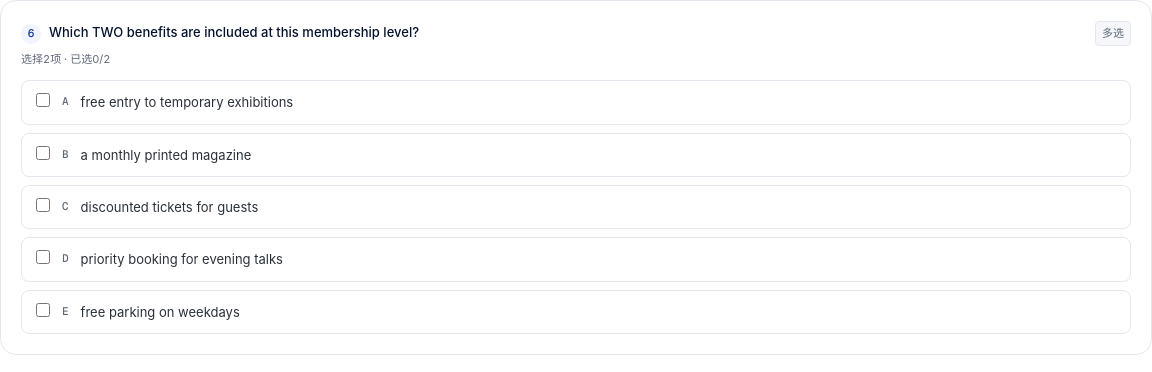
McqMultiGroup › deselecting at the limit re-enables the rest
Click the checkbox labelled "free entry to temporary exhibitions" at (43, 100), box left=36, top=93, right=50, bottom=107
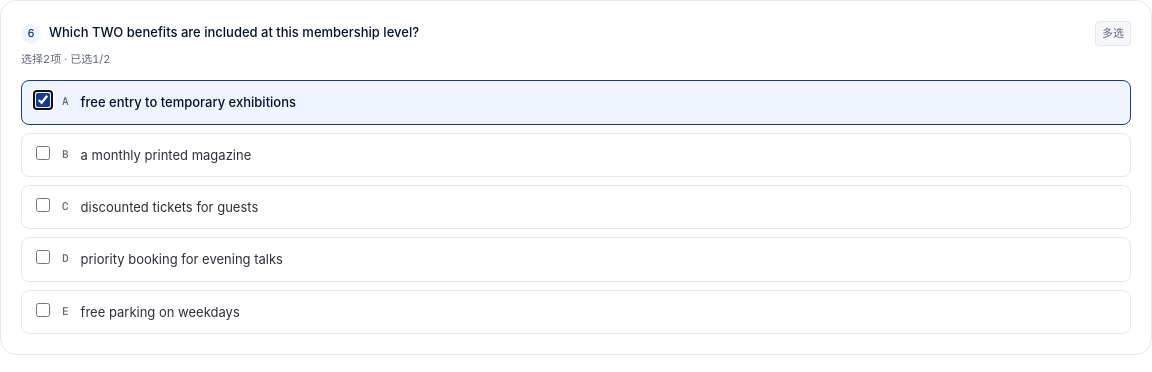
Click the checkbox labelled "discounted tickets for guests" at (43, 205), box left=36, top=198, right=50, bottom=212
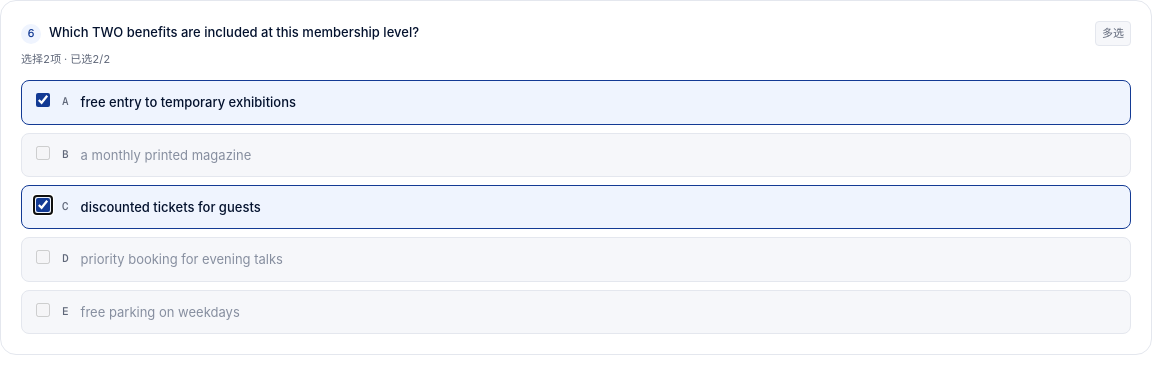
Now the checkbox labelled "a monthly printed magazine" is disabled, box left=36, top=146, right=50, bottom=160
Click the checkbox labelled "free entry to temporary exhibitions" at (43, 100), box left=36, top=93, right=50, bottom=107
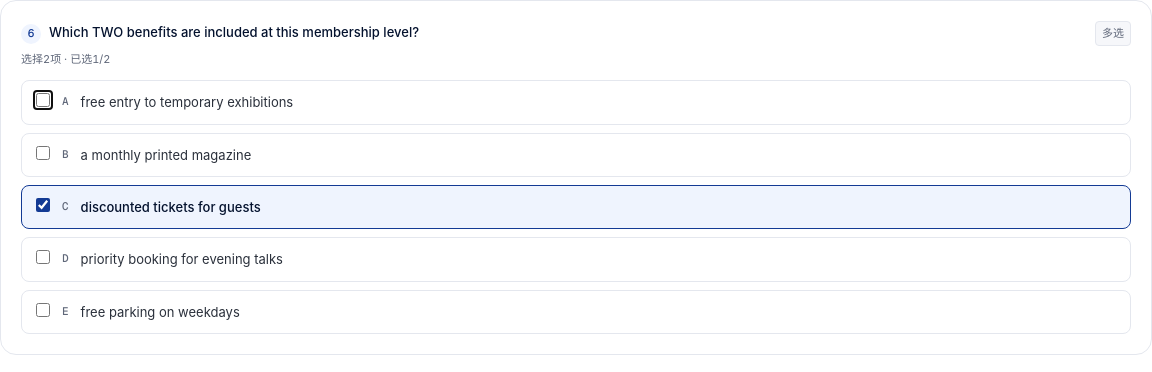
Now the checkbox labelled "free entry to temporary exhibitions" is not checked, box left=36, top=93, right=50, bottom=107
Now the text "选择2项 · 已选1/2" is shown, box left=21, top=52, right=110, bottom=66
